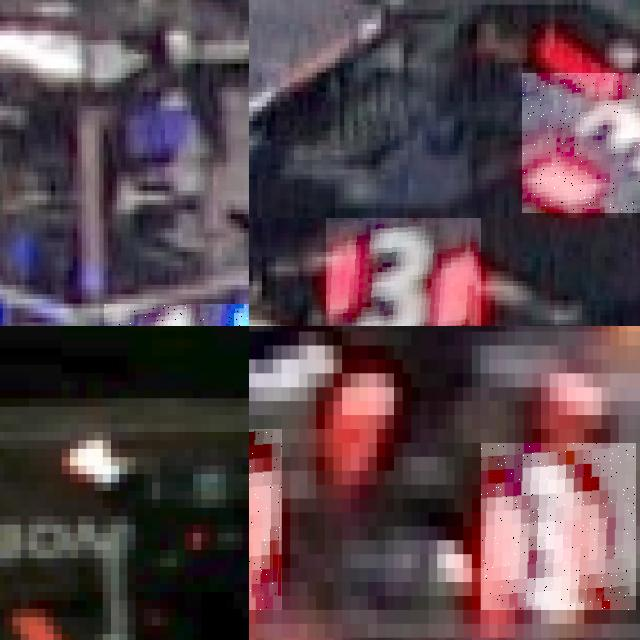B1: (103, 303, 249, 326)
R3: (481, 443, 636, 610), (325, 218, 481, 326), (522, 72, 640, 213), (249, 429, 281, 610)
